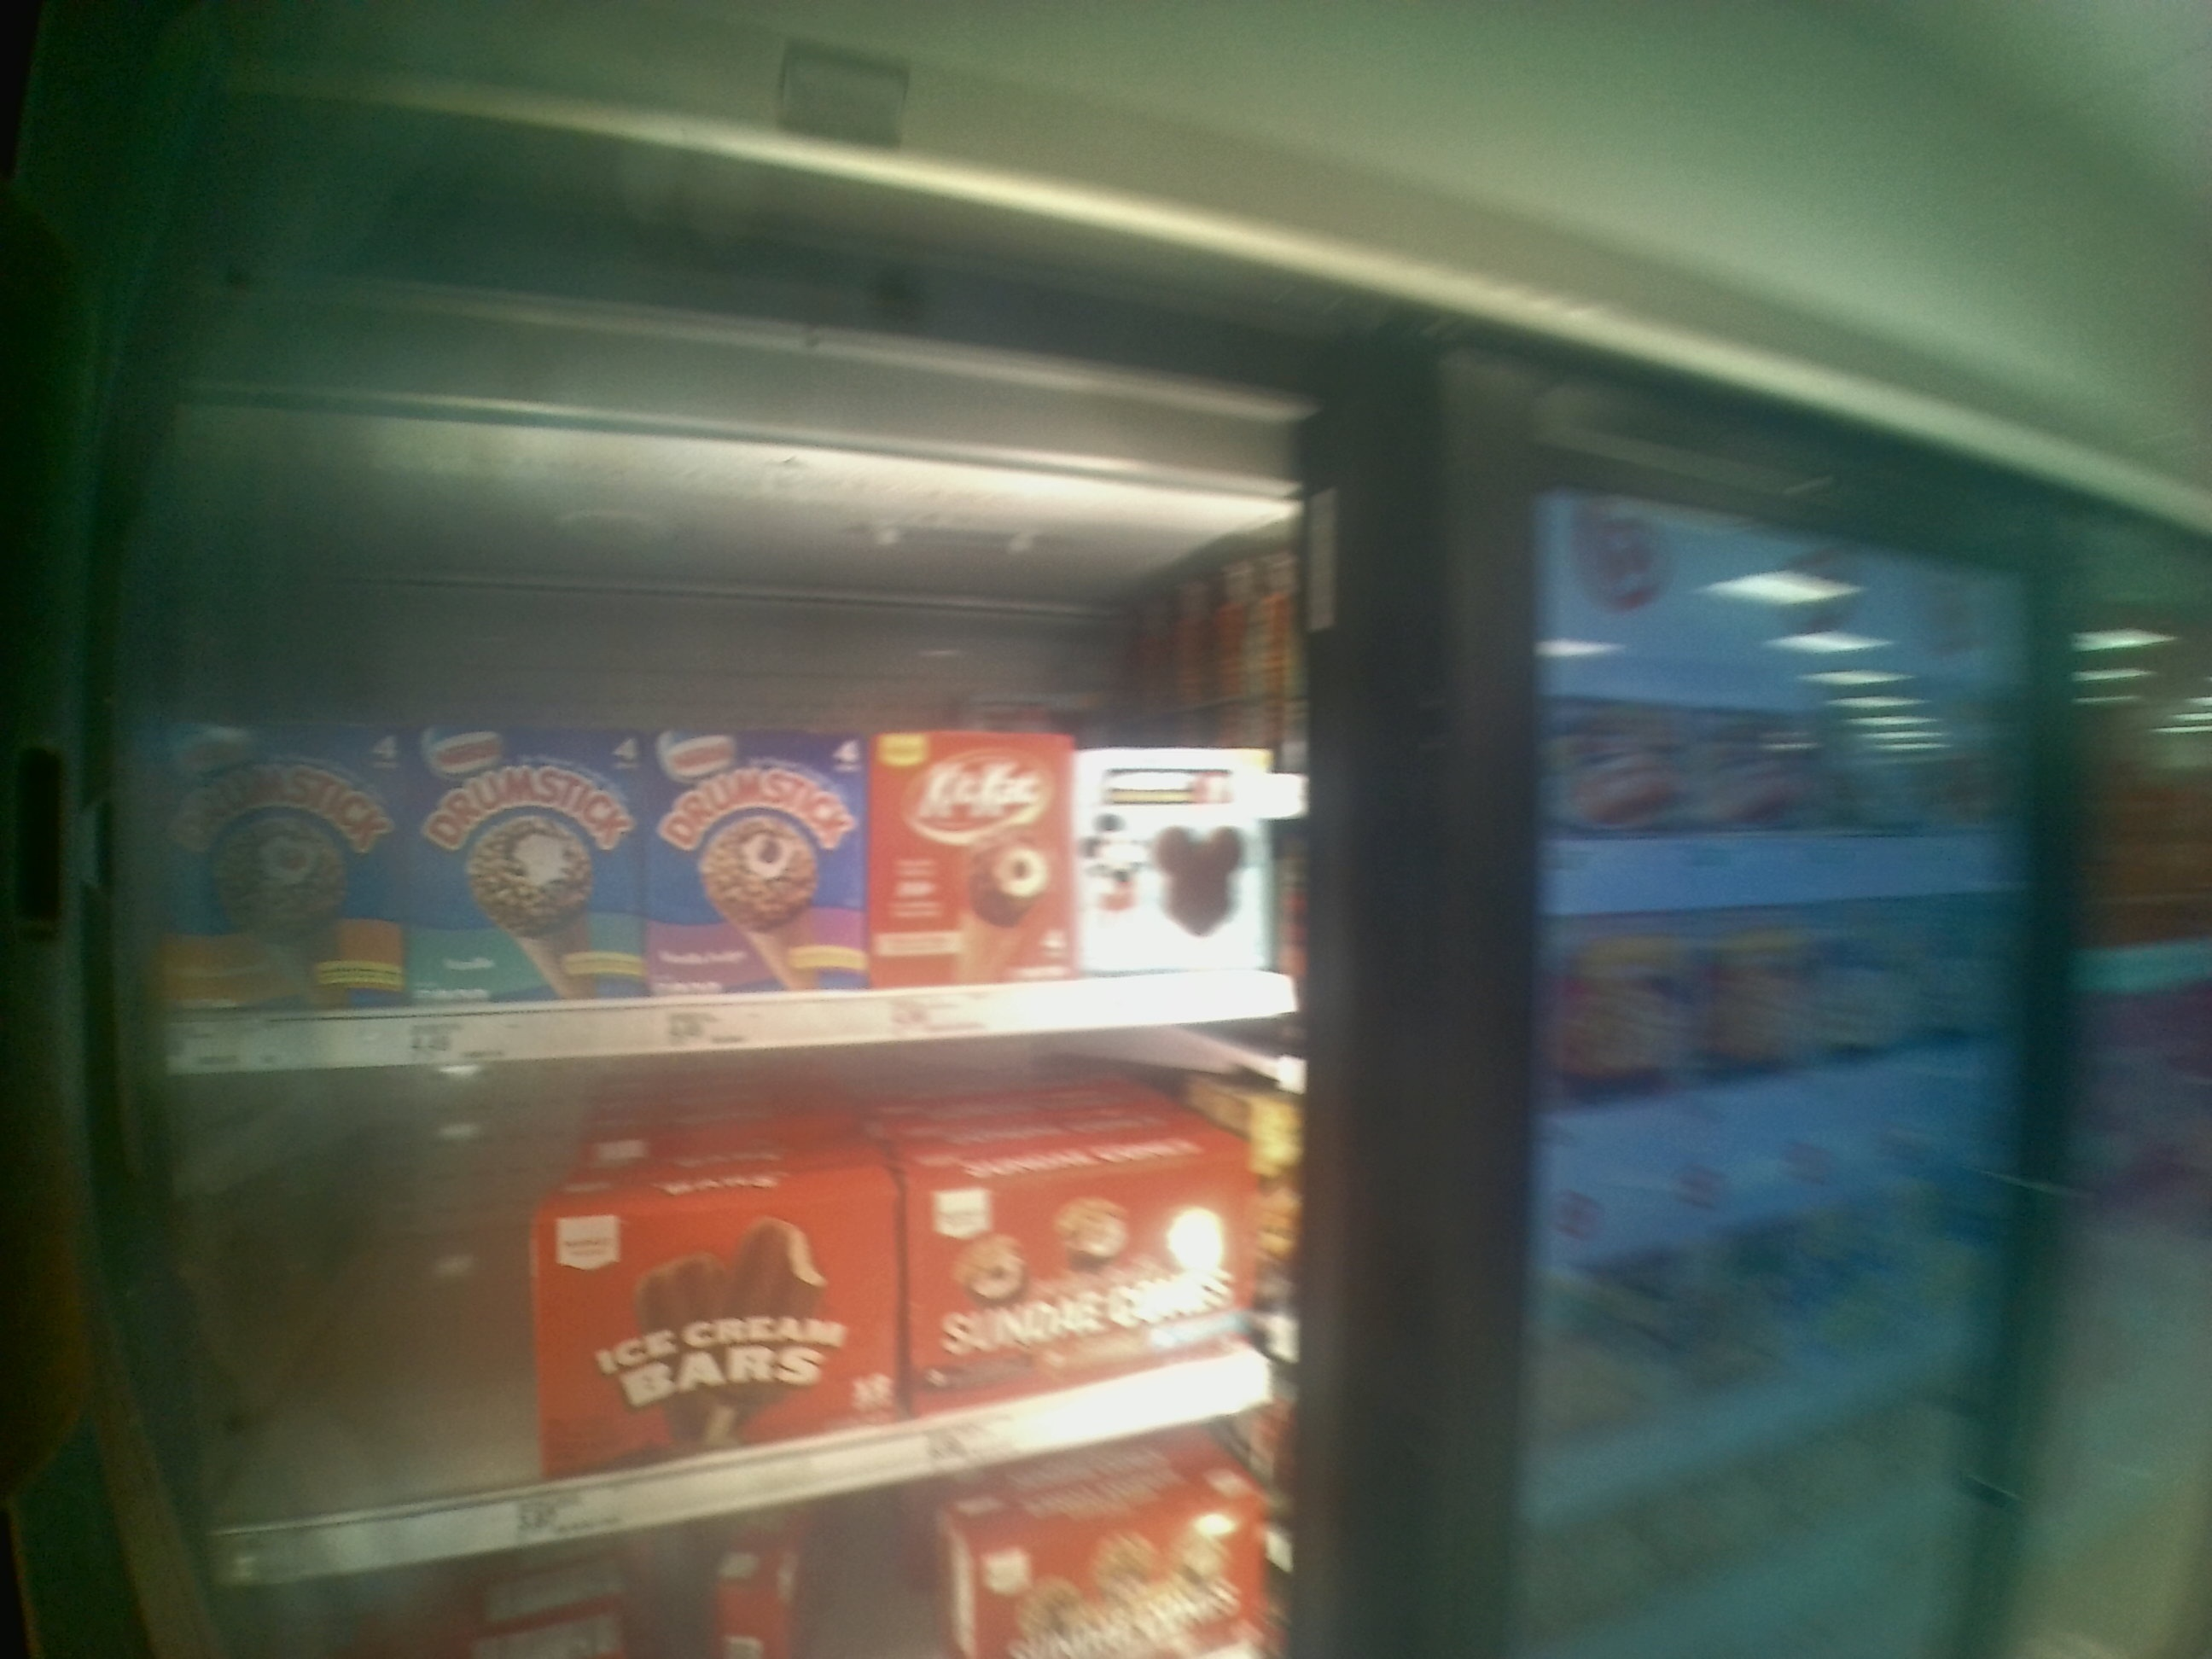shelf: (120, 1004, 1315, 1589), (98, 601, 1313, 1054)
